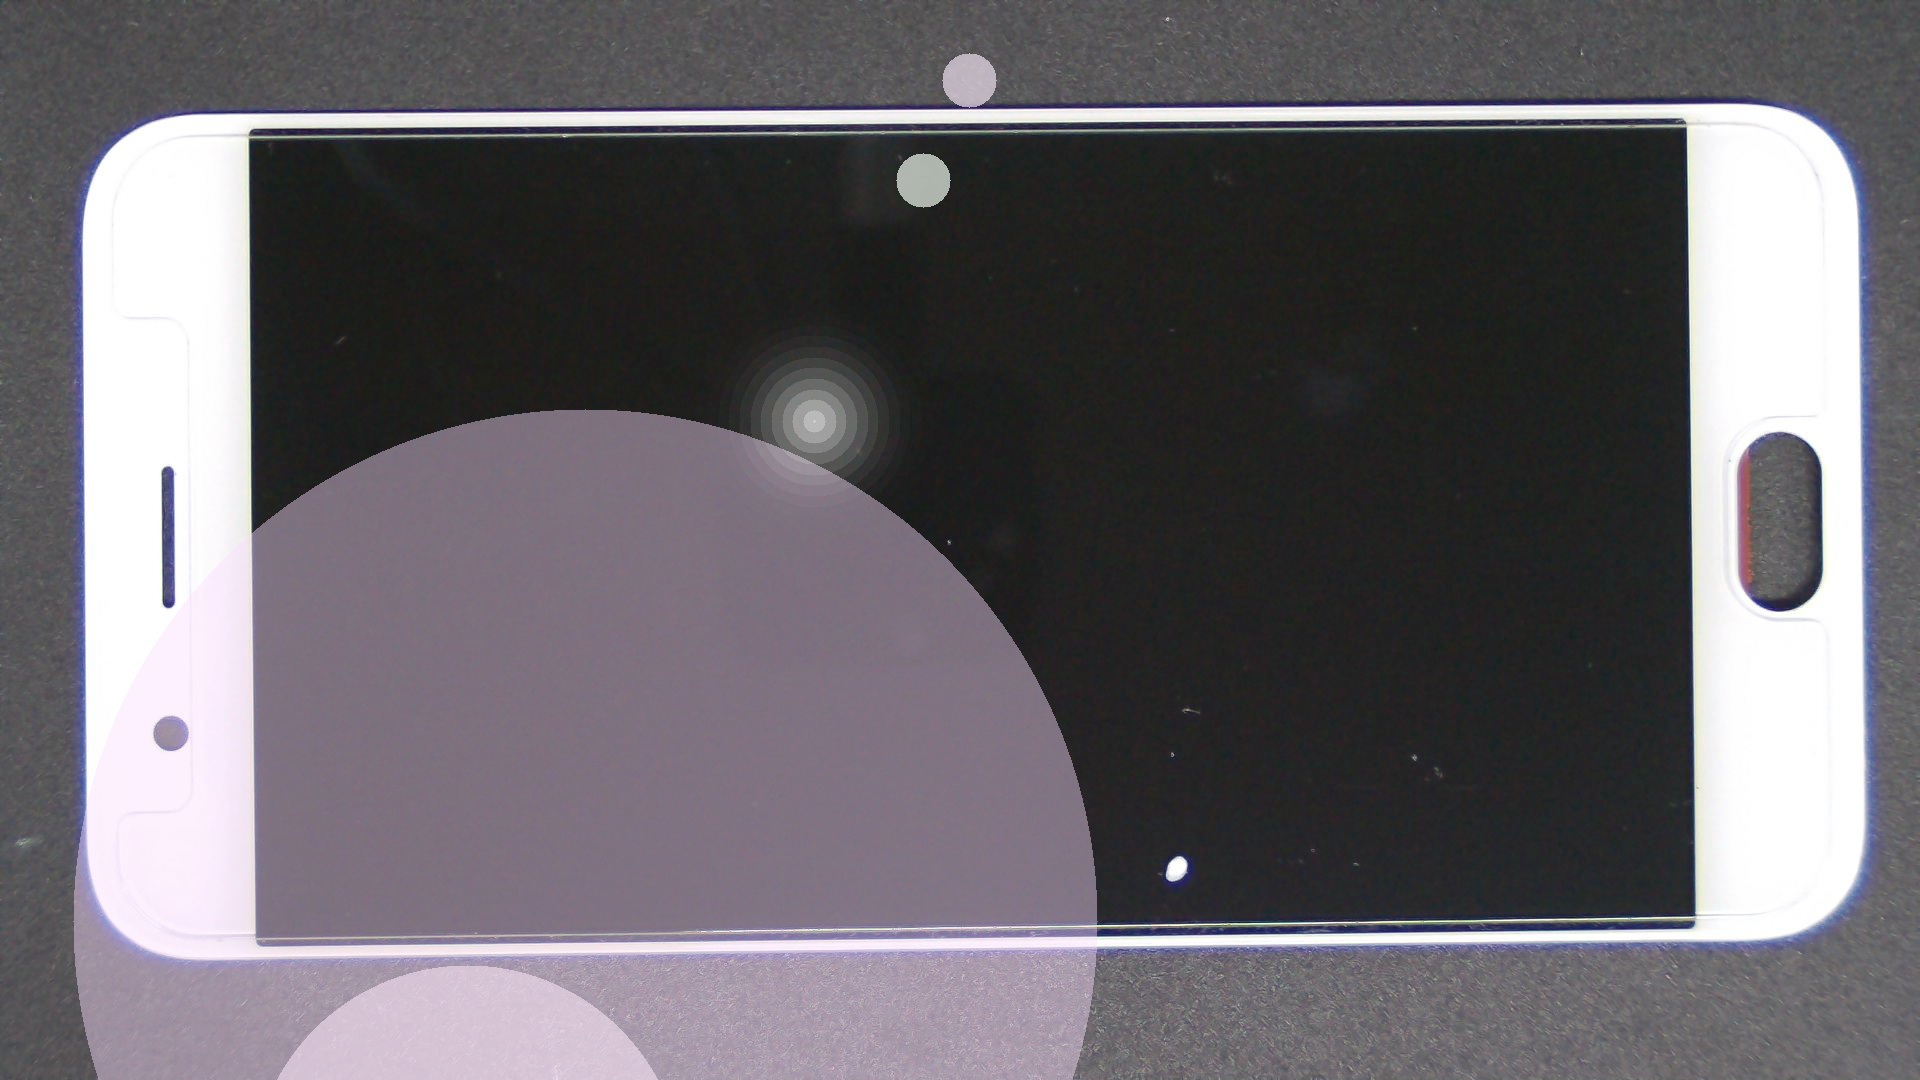oil: (588, 427, 1763, 1080)
